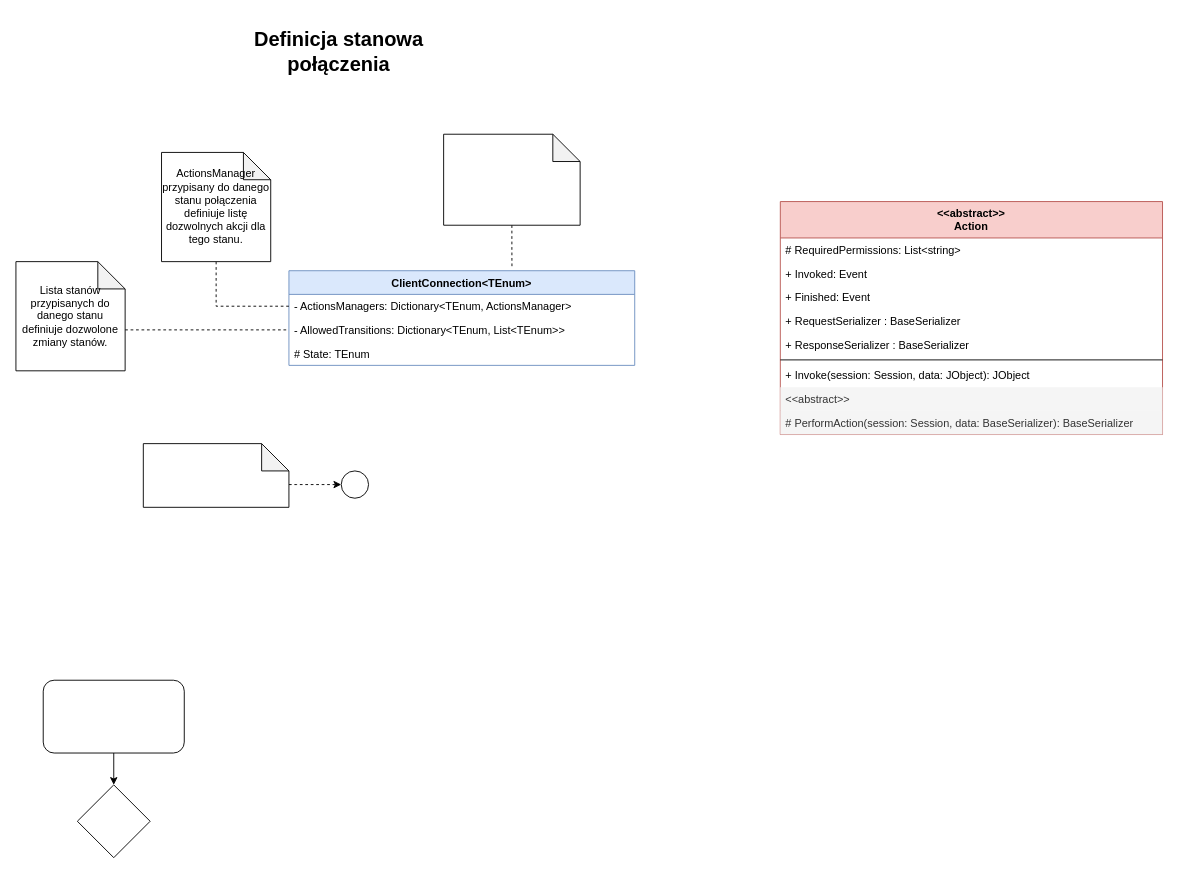
The diagram is 1178 pixels wide and 874 high, and some of its shapes have lost their labels. Each missing label, with the box of its shape:
Lista stanów może być dowolna (należy przekazać przy definicji odpowiedni enum): (443, 133, 580, 225)
Pobierz ActionsManager na podstawie aktualnego stanu połączenia: (42, 679, 184, 753)
Użytkownik wysyła wiadomość do serwera: (142, 443, 289, 507)
